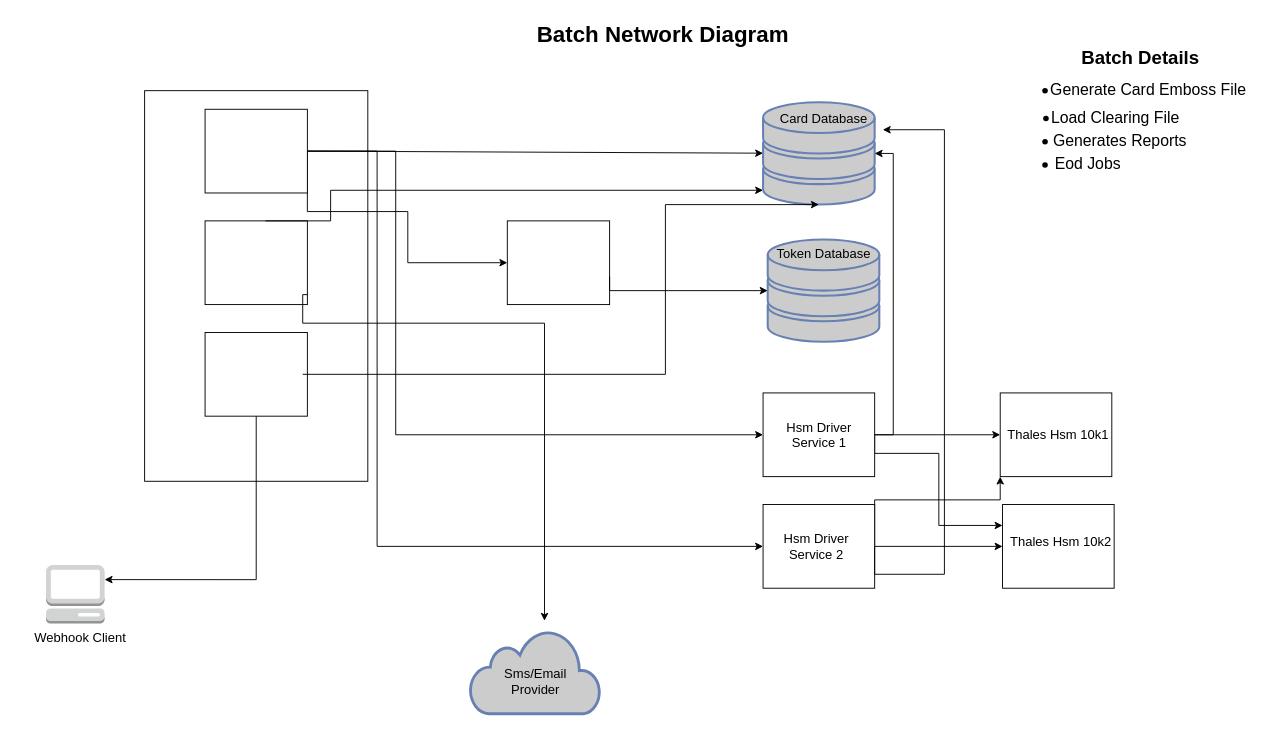
Image size: 1276x730. Some labels were removed from this diagram. The centre of each missing label's shape, as x and y in pixels:
"Notification Service" belongs at point 255,262.
"Scheduler Service" belongs at point 255,150.
"Token Module" belongs at point 558,262.
"Webhook Service" belongs at point 255,374.
